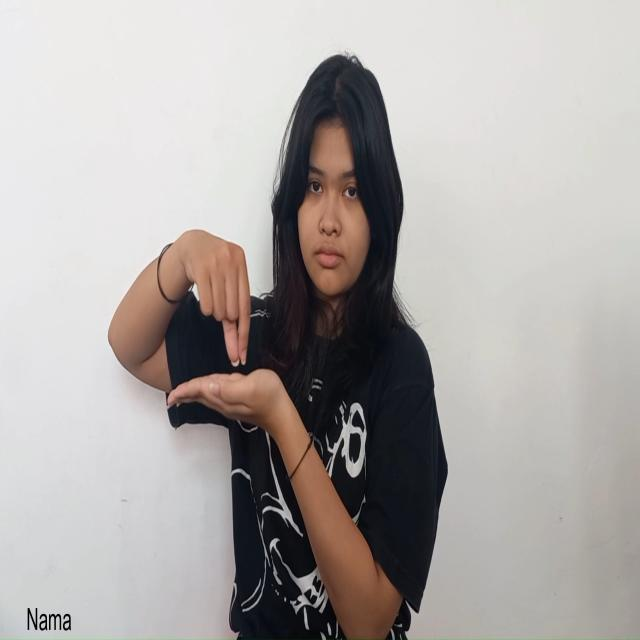Nama -BISINDO-: (166, 227, 280, 434)
